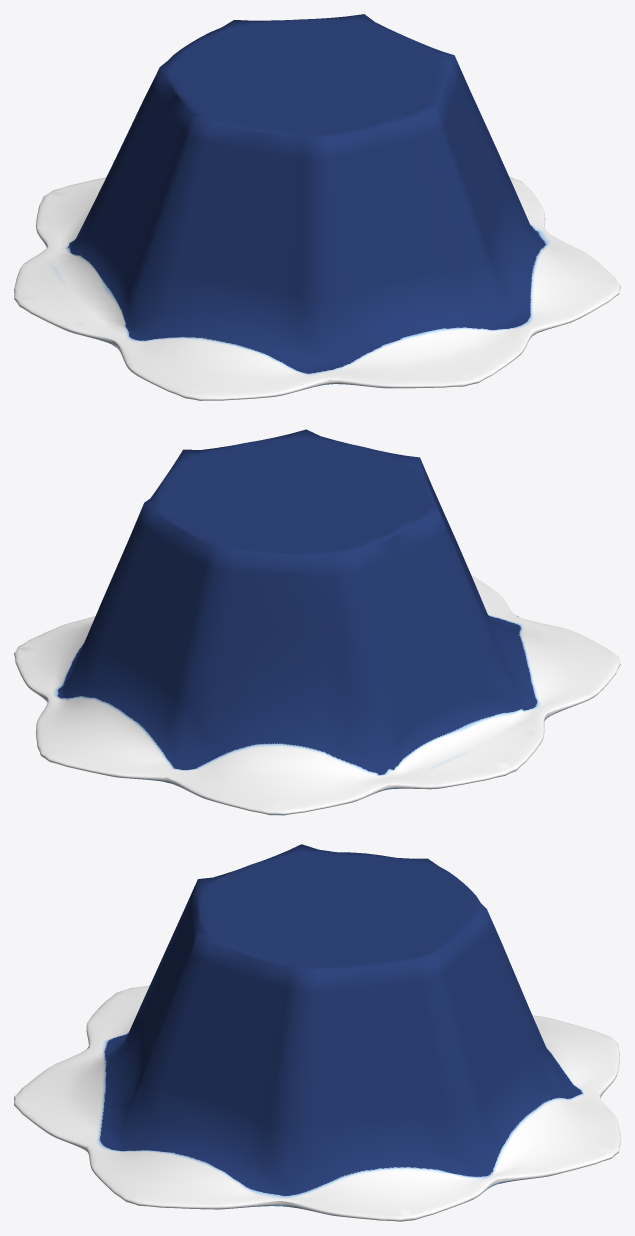
Rendered from Gelo.gltf.
3 views of the same model, one above another, from view 1: azimuth 30°, elevation 25°; view 2: azimuth 150°, elevation 25°; view 3: azimuth 270°, elevation 25° (orthographic).
Parts seen in each view (by area): view 1: Gelo; view 2: Gelo; view 3: Gelo.
Boxes of the visible parts, x1=… form: Gelo: x1=14, y1=14, x2=620, y2=400; Gelo: x1=14, y1=429, x2=620, y2=815; Gelo: x1=14, y1=844, x2=620, y2=1221.
Bounding box in the file's own units: 2.09 × 0.7776 × 2.17.
Materials: 1 (1 with a texture image).
